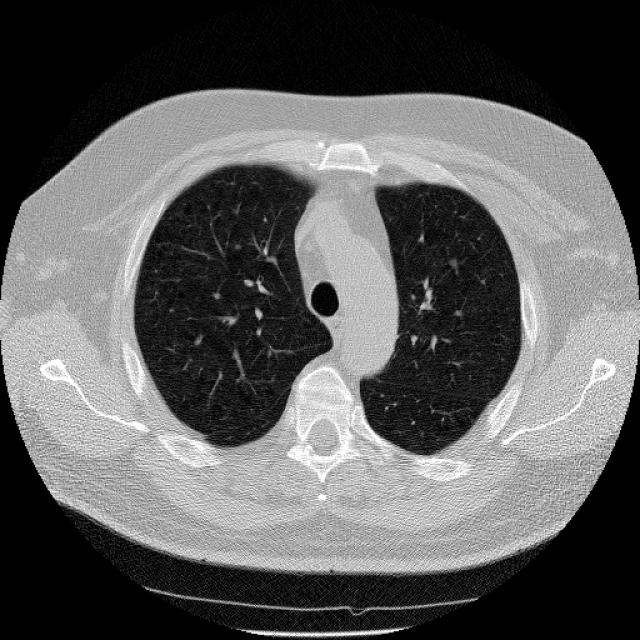nodule: (441, 251, 461, 271)
